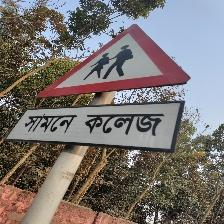College-in-front: (3, 11, 195, 185)
